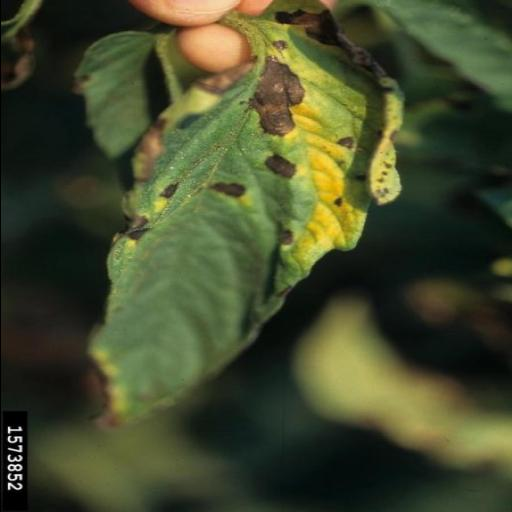disease_tomato: (83, 13, 405, 439)
